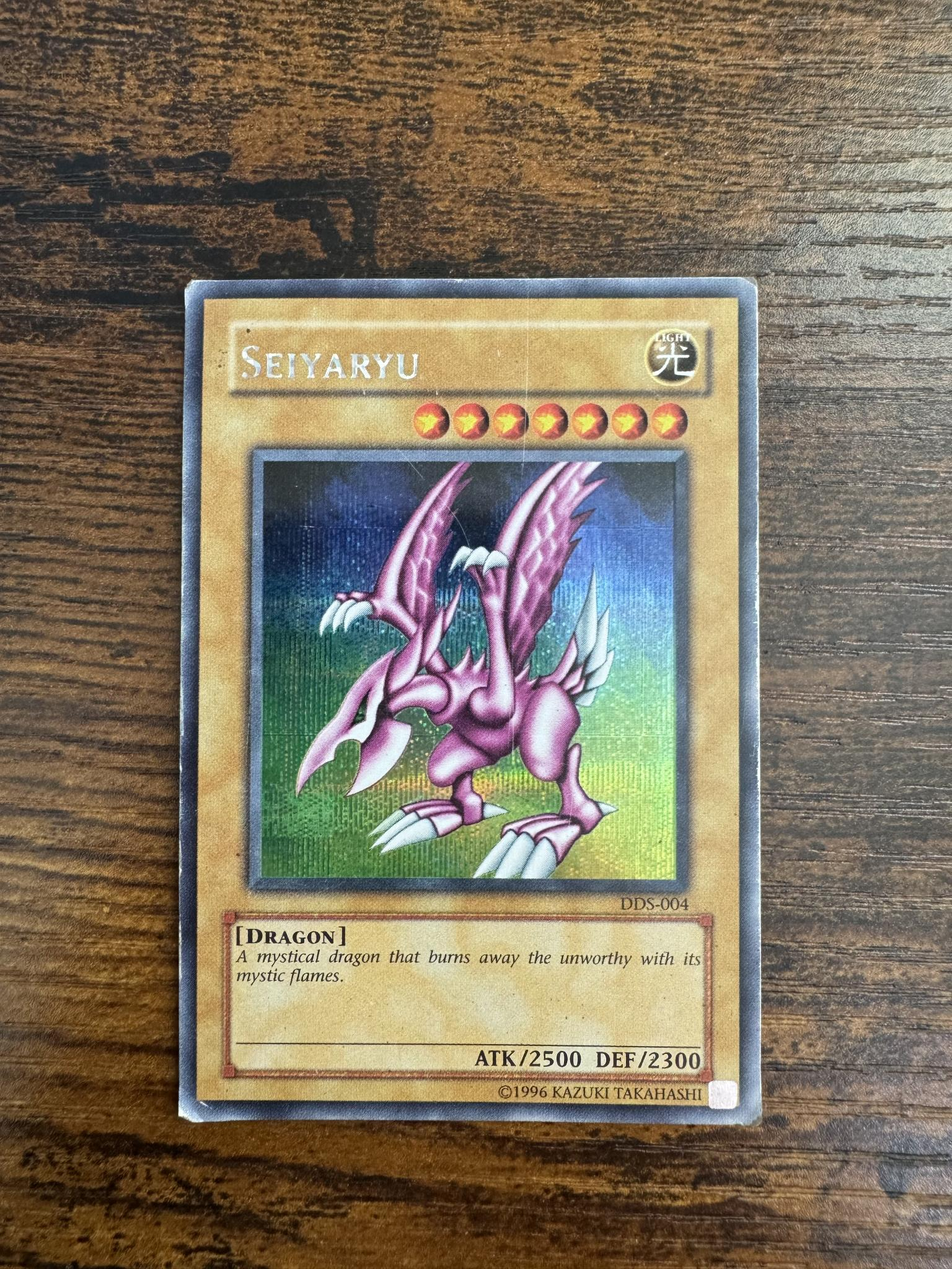card-2UtV: (178, 277, 762, 1126)
